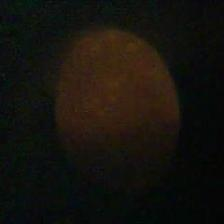fertile: (51, 29, 180, 184)
